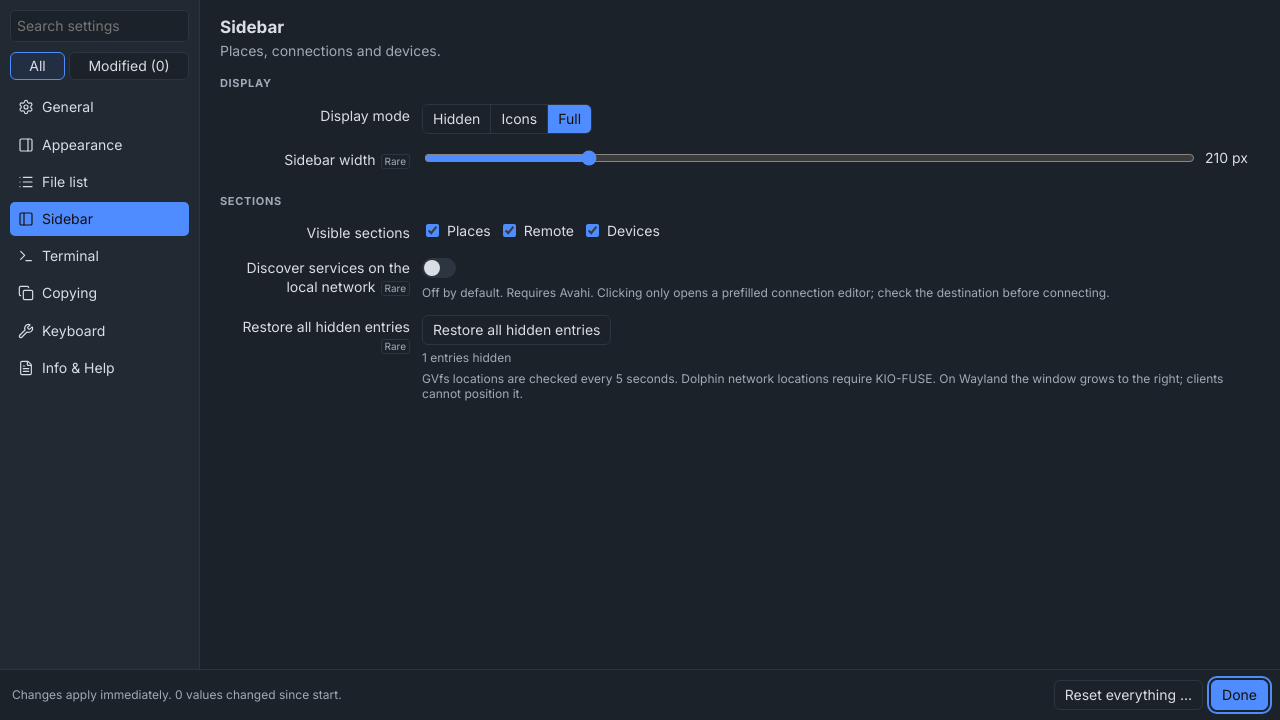
Test: sidebar preferences appear and synchronize in the separate settings window
Step 1. Click the radio button labelled "Icons" → (519, 119), box [490,105,547,133]
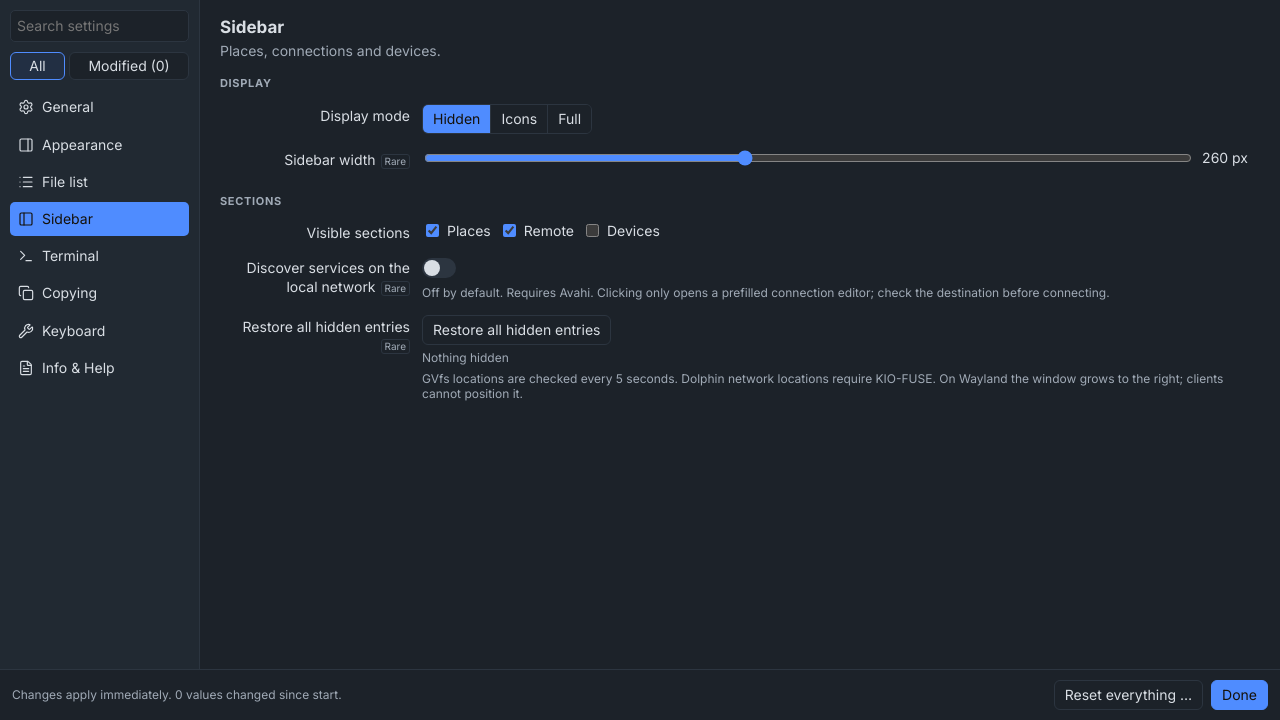
Now the slider labelled "Sidebar width" holds "260", box [424,150,1192,166]
